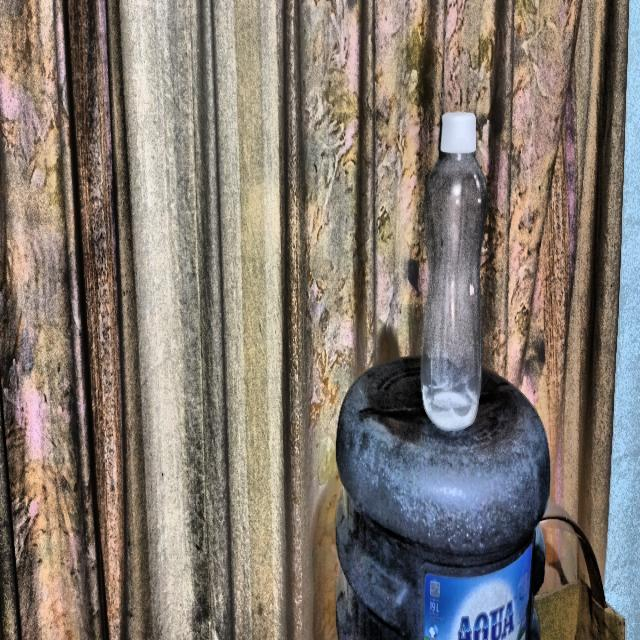Bottle: (419, 108, 489, 431)
